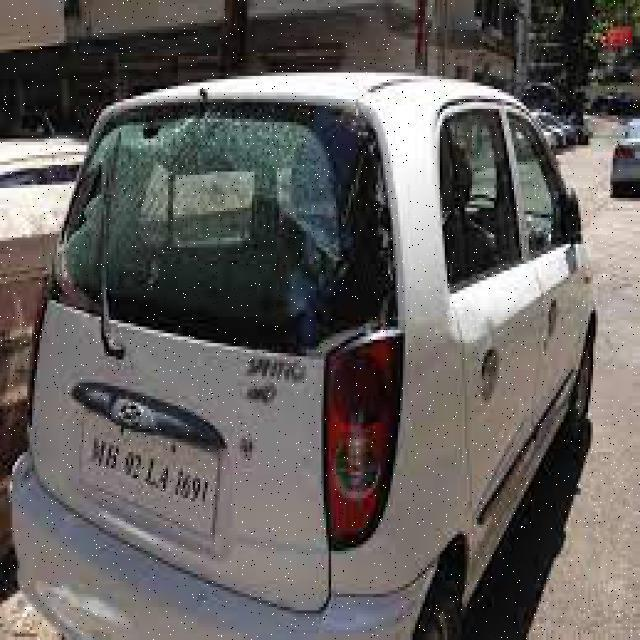car damage: (37, 103, 415, 370)
